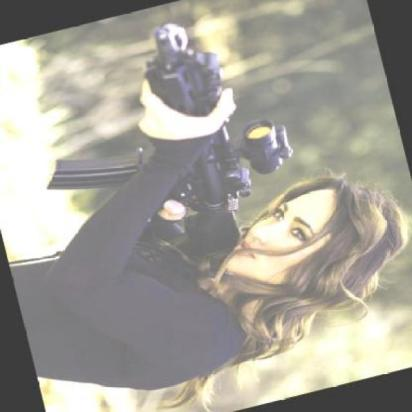Gun: (53, 22, 290, 264)
